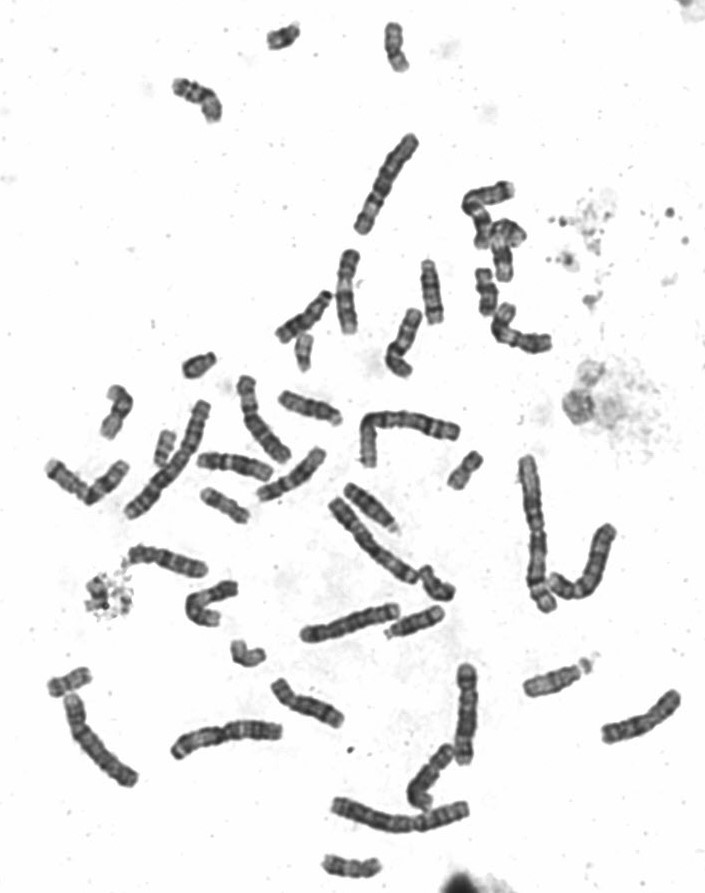chromosomes: (117, 394, 217, 528), (51, 688, 144, 798), (323, 493, 423, 589), (349, 121, 427, 244), (511, 444, 565, 621), (354, 403, 471, 476), (543, 512, 626, 606), (322, 792, 478, 839), (162, 713, 287, 770), (592, 682, 692, 752), (449, 174, 531, 255), (230, 371, 298, 467), (40, 452, 138, 512), (259, 671, 346, 737), (293, 597, 405, 648), (249, 440, 333, 508), (162, 68, 238, 131), (479, 299, 560, 358), (486, 210, 545, 291), (446, 655, 487, 771), (400, 739, 461, 815), (123, 538, 212, 590), (178, 572, 246, 639), (519, 649, 600, 705), (272, 284, 339, 350), (379, 305, 433, 384), (340, 476, 404, 542), (87, 378, 143, 450), (188, 443, 279, 486), (332, 245, 370, 343), (376, 17, 428, 85), (273, 385, 346, 433), (253, 17, 327, 61), (195, 484, 257, 530), (174, 345, 231, 394), (415, 252, 450, 331), (313, 848, 389, 883), (379, 603, 447, 642), (39, 659, 100, 701), (414, 558, 462, 609), (442, 447, 489, 494), (224, 631, 277, 672), (469, 263, 505, 322), (287, 329, 322, 376), (153, 421, 179, 472), (81, 576, 110, 611)
